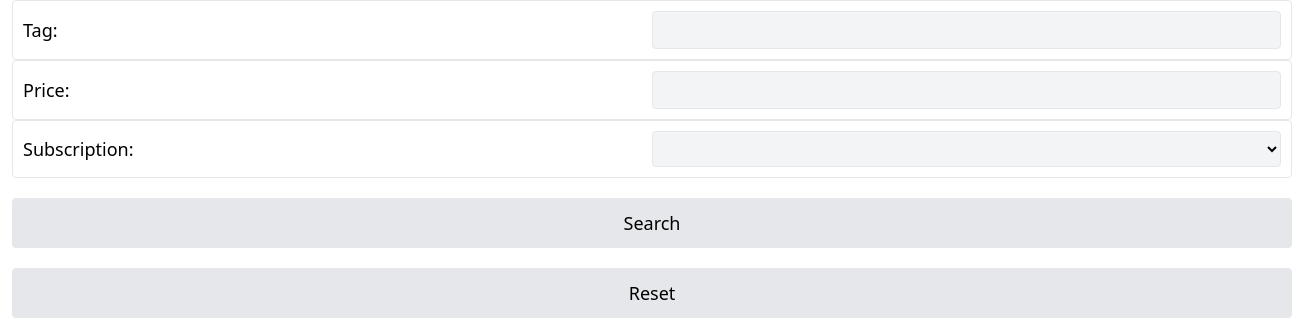
Filters Component › resets form fields
The image size is (1304, 335).
Type "test tag" into the field labelled "Tag:" at coordinates (966, 30), box [652,11,1281,49]
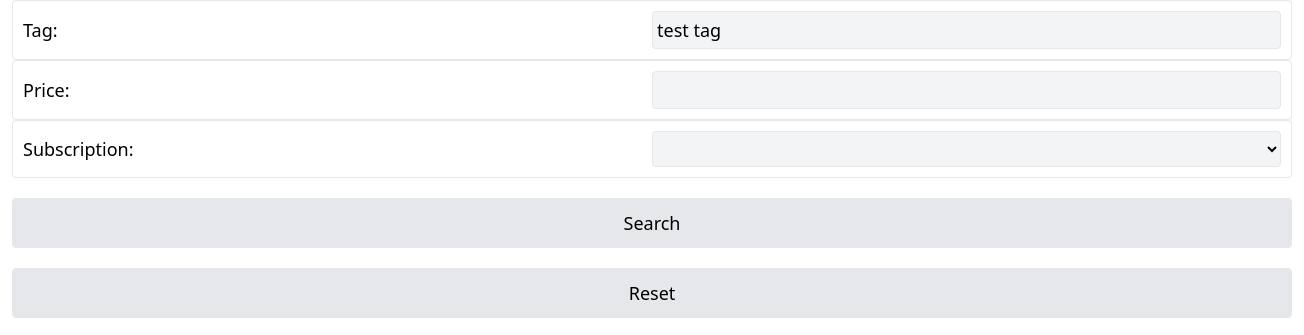
Click the button with test id "reset-button" at coordinates (652, 293), box [12,268,1292,318]
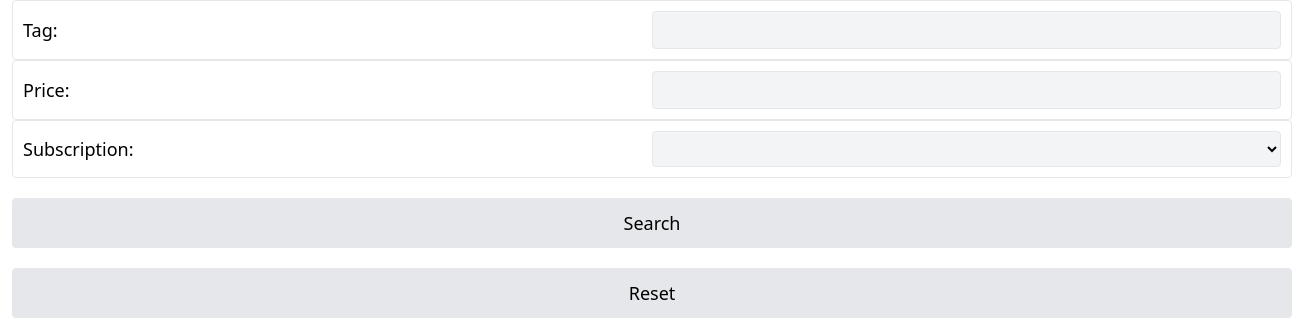
Result: the field labelled "Tag:" is empty at [652,11,1281,49]
